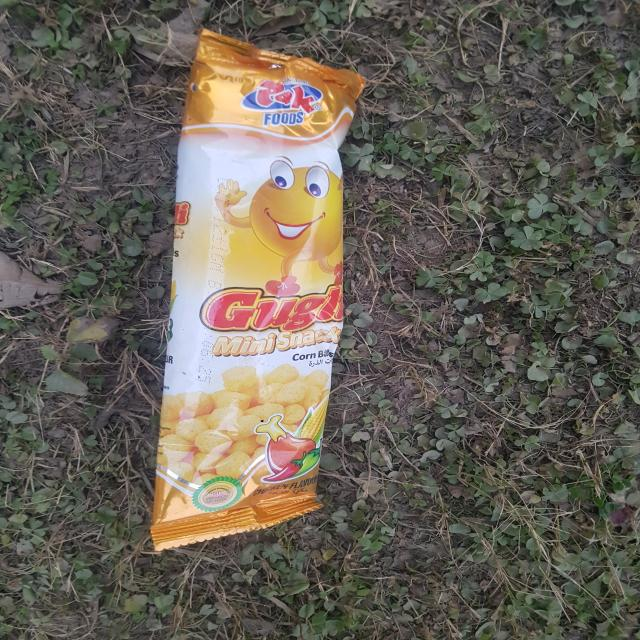electronic: (149, 28, 366, 552)
